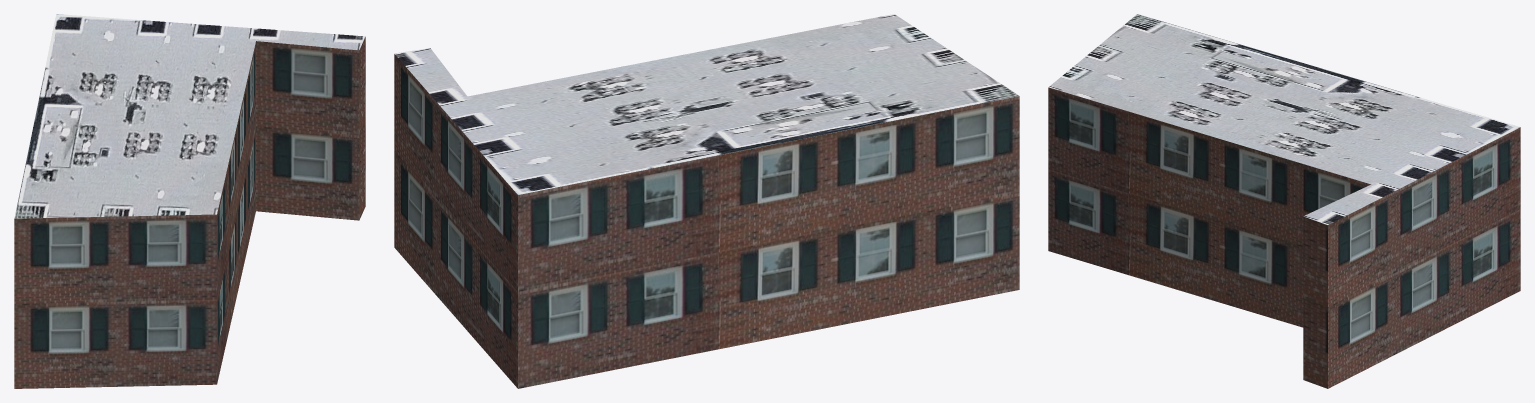
The model's file is ResTex__3365.fbx.
3 views of the same model, side by side, from view 1: azimuth 30°, elevation 25°; view 2: azimuth 150°, elevation 25°; view 3: azimuth 270°, elevation 25° (orthographic). The views are drawn at different scales.
Visible parts, largest first — view 1: CityEngineMaterial_14_m, CityEngineMaterial_8_m; view 2: CityEngineMaterial_14_m, CityEngineMaterial_8_m; view 3: CityEngineMaterial_14_m, CityEngineMaterial_8_m.
Part boxes in pixels (x1,y1,x2,y2): CityEngineMaterial_14_m: (14,37,365,388); CityEngineMaterial_8_m: (14,14,365,218); CityEngineMaterial_14_m: (394,54,1019,388); CityEngineMaterial_8_m: (394,14,1018,194); CityEngineMaterial_14_m: (1048,87,1520,388); CityEngineMaterial_8_m: (1048,14,1520,224).
Size of the model in its own units: 16.61 by 6 by 15.69.
Materials: 2 (2 with a texture image).
